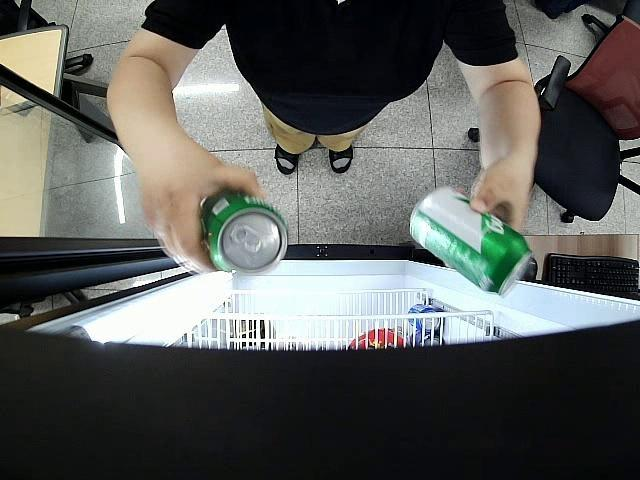12_chilsungCider: (408, 188, 532, 295), (202, 190, 288, 277)
